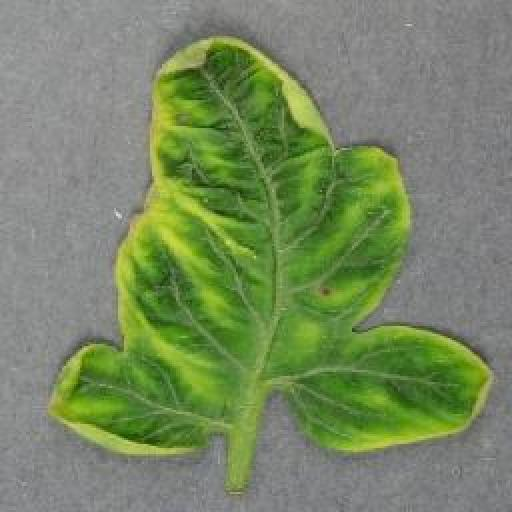disease_tomato: (52, 37, 494, 459)
